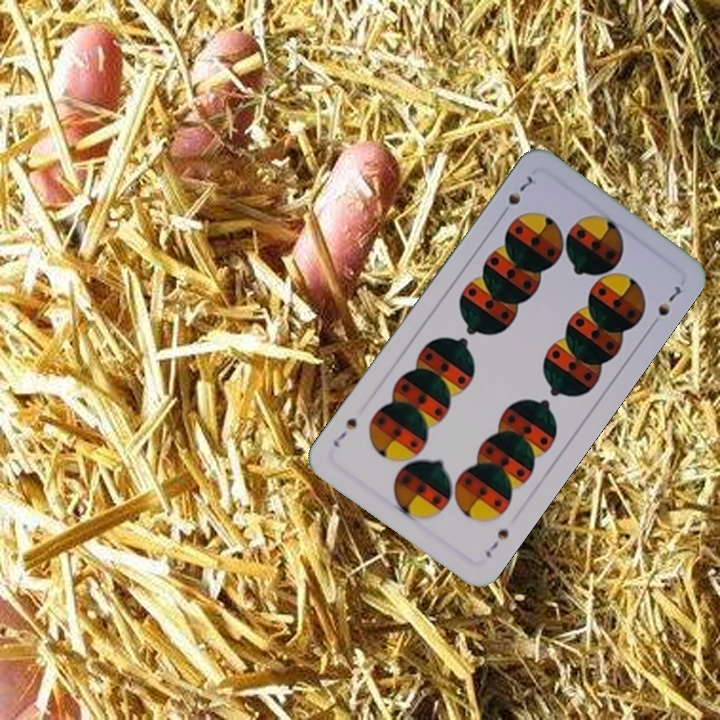S7: (496, 172, 536, 220), (481, 524, 512, 561)
